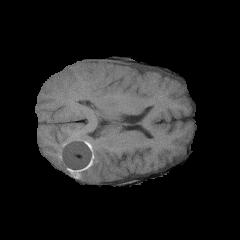glioma: (48, 66, 163, 180)
